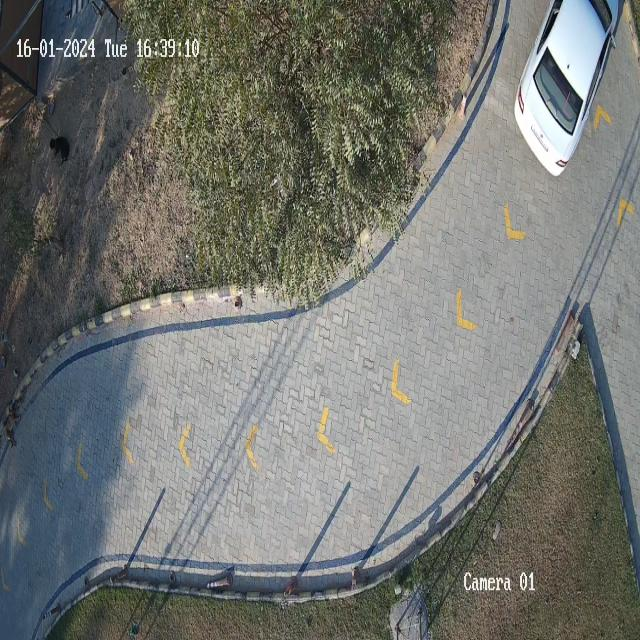car: (514, 0, 623, 176)
